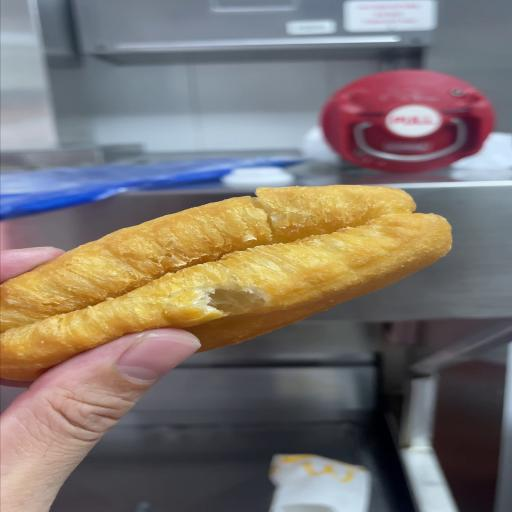brand_golden_defect: (0, 185, 451, 381)
